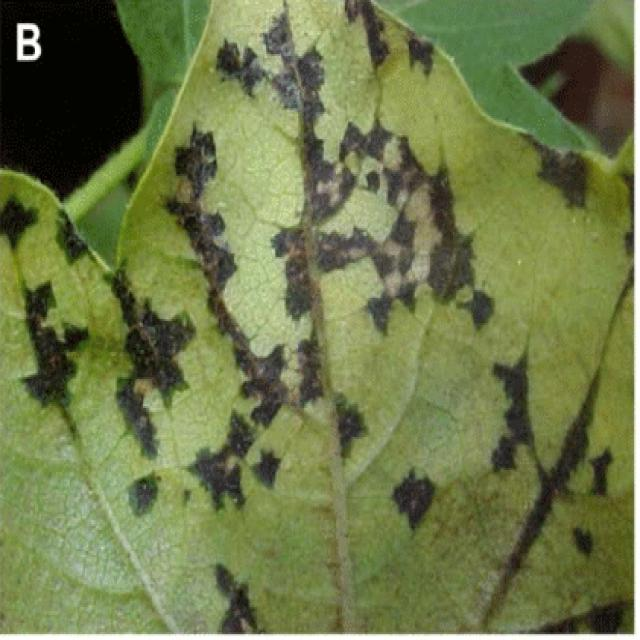Bacterial Blight: (170, 131, 456, 522)
